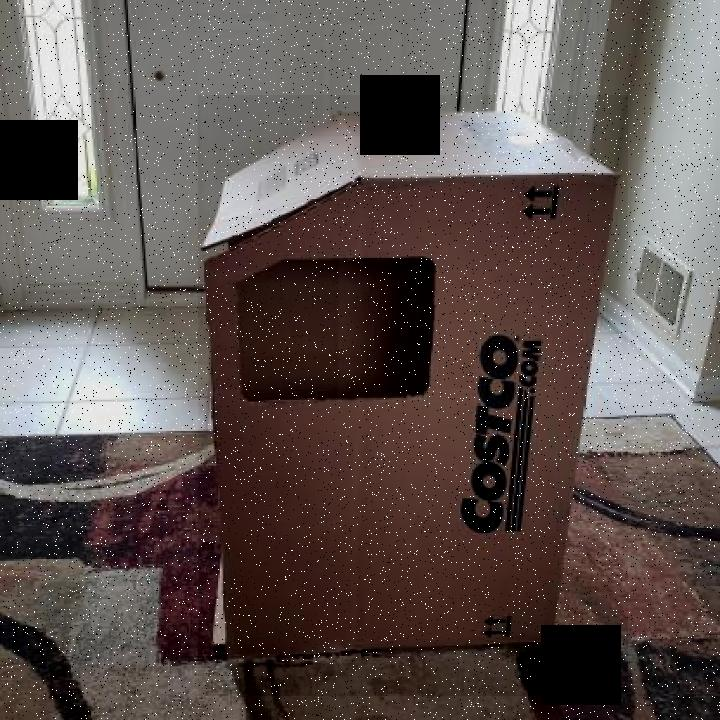box: (198, 95, 628, 696)
